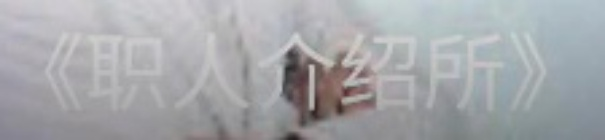TextView: (1, 1, 604, 139)
